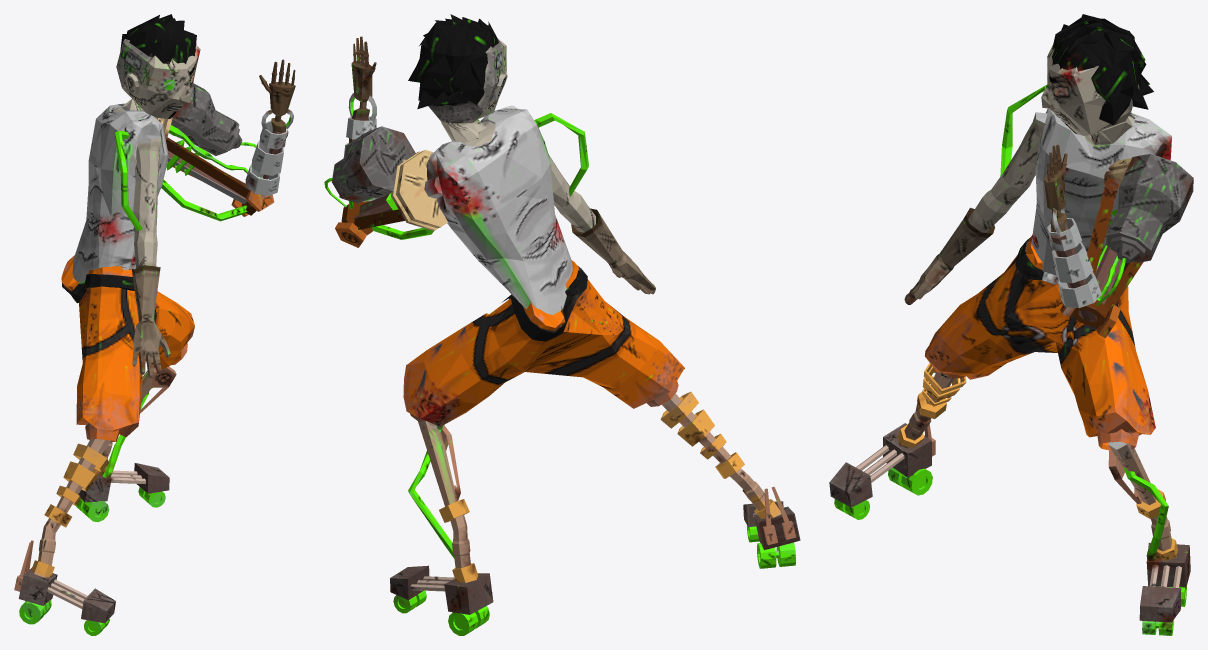
File: CyborgFINALAnimation_000040.obj
The picture shows the model from 3 angles, left to right: view 1: azimuth 30°, elevation 25°; view 2: azimuth 150°, elevation 25°; view 3: azimuth 270°, elevation 25°; orthographic projection. The views are drawn at different scales.
Parts seen in each view (by area): view 1: CyborgMesh_Cube.002; view 2: CyborgMesh_Cube.002; view 3: CyborgMesh_Cube.002.
Boxes of the visible parts, bbox=[...] form: CyborgMesh_Cube.002: bbox=[14, 14, 295, 635]; CyborgMesh_Cube.002: bbox=[324, 14, 800, 635]; CyborgMesh_Cube.002: bbox=[829, 14, 1193, 635].
Size of the model in its own units: 6 by 8.66 by 4.71.
